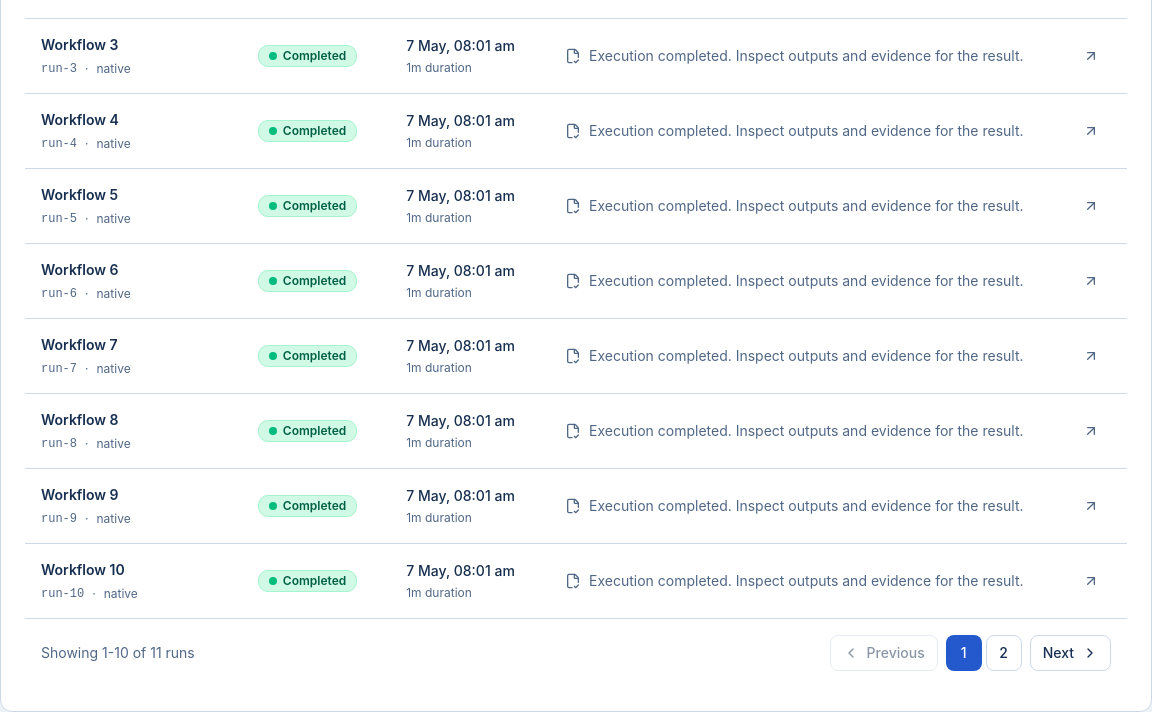
Scenario: RunSessionsTable › shows up to 10 runs on each page
(page scrolled)
Check: the link "Workflow 10" is shown, box [41,560,125,578]
Check: the link "Workflow 11" is not shown
Click the button "Next" at (1070, 652), box [1030,634,1111,670]
(page scrolled)
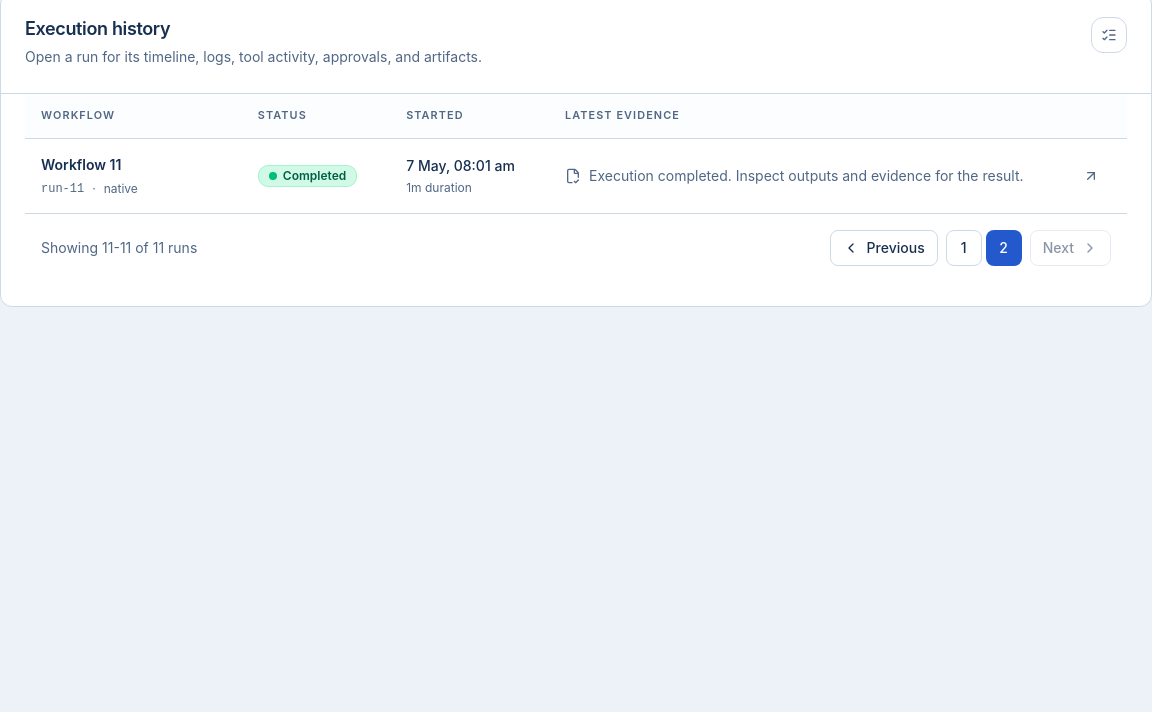
Check: the link "Workflow 11" is shown, box [41,156,121,172]
Check: the text "Showing 11-11 of 11 runs" is shown, box [41,238,197,258]
